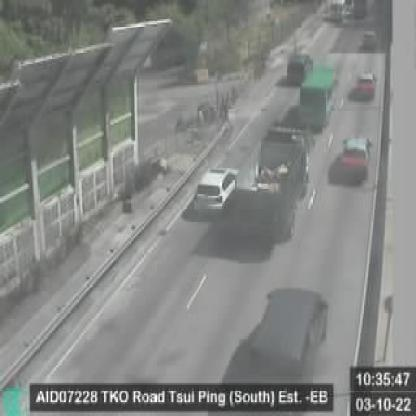Car: (248, 288, 325, 374), (191, 166, 237, 214), (339, 135, 368, 179), (284, 54, 310, 81), (351, 71, 374, 99)
Minibus: (299, 68, 337, 123)
Truck: (230, 106, 315, 237)
